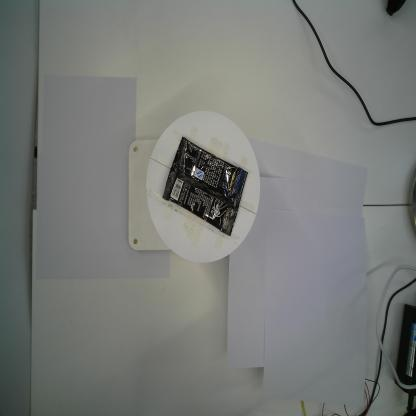Instant Drink: (161, 137, 248, 237)
